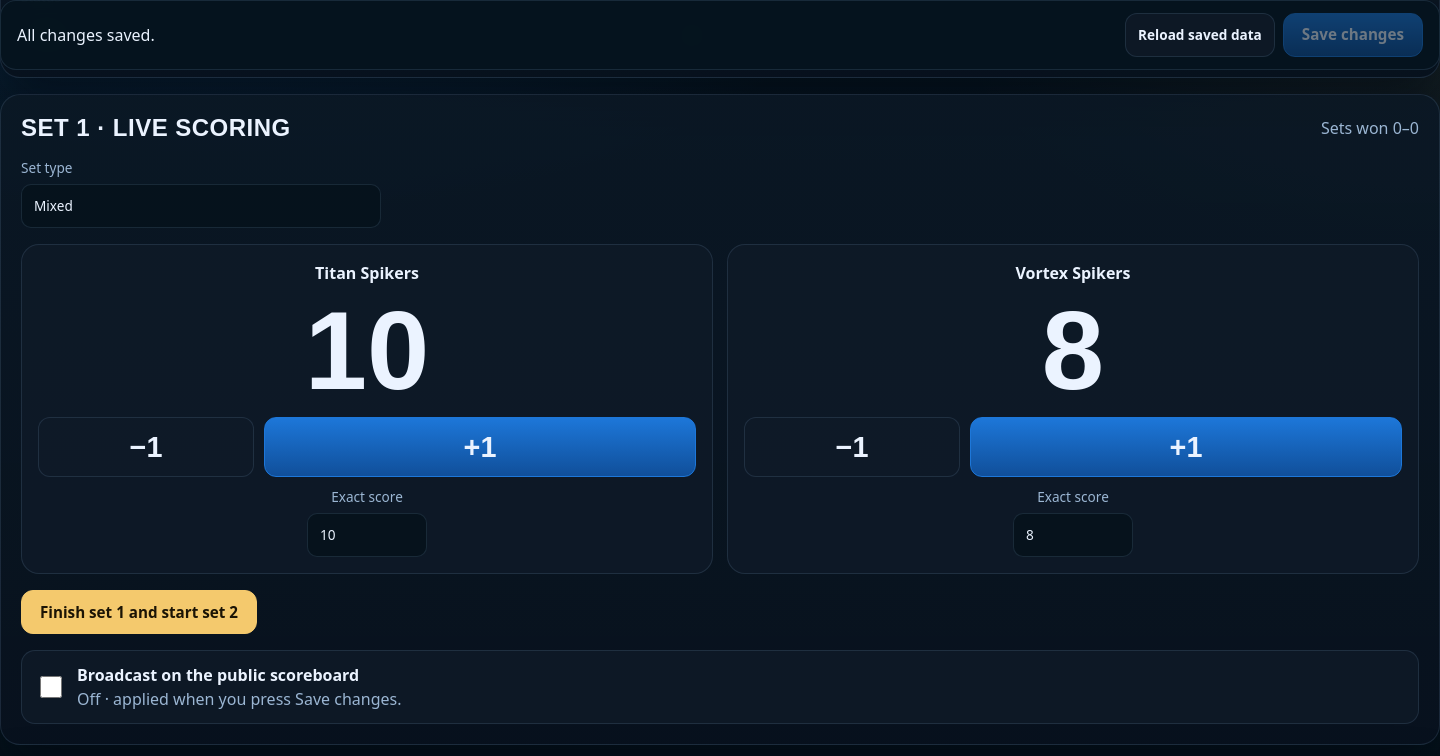
Test: match editor: drafts stay private until saved › saves with the version it was based on, then shows the saved state
The image size is (1440, 756).
(page scrolled)
Click the button named "add a point to titan spikers": (480,447) left=264, top=417, right=696, bottom=477
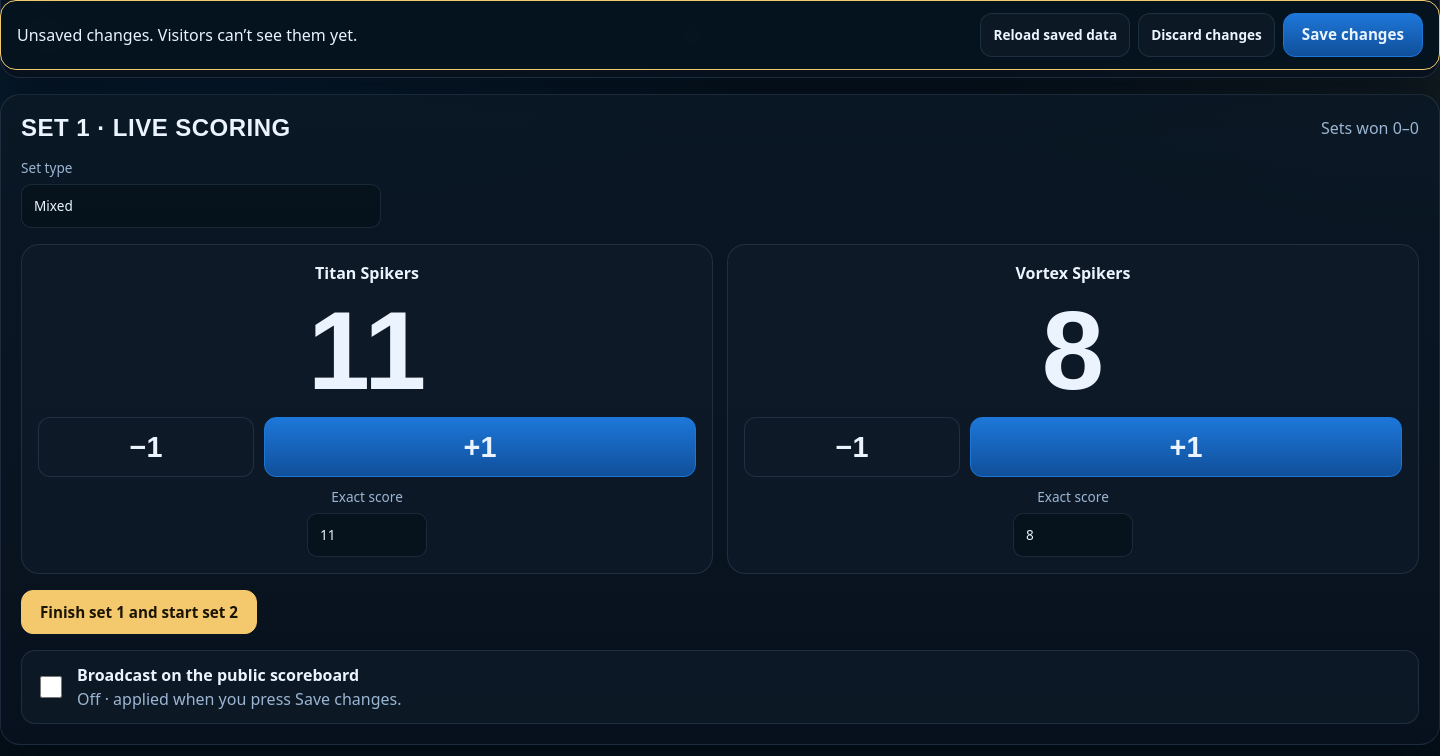
Click the button "Save changes": (1353,35) left=1283, top=13, right=1423, bottom=57
(page scrolled)
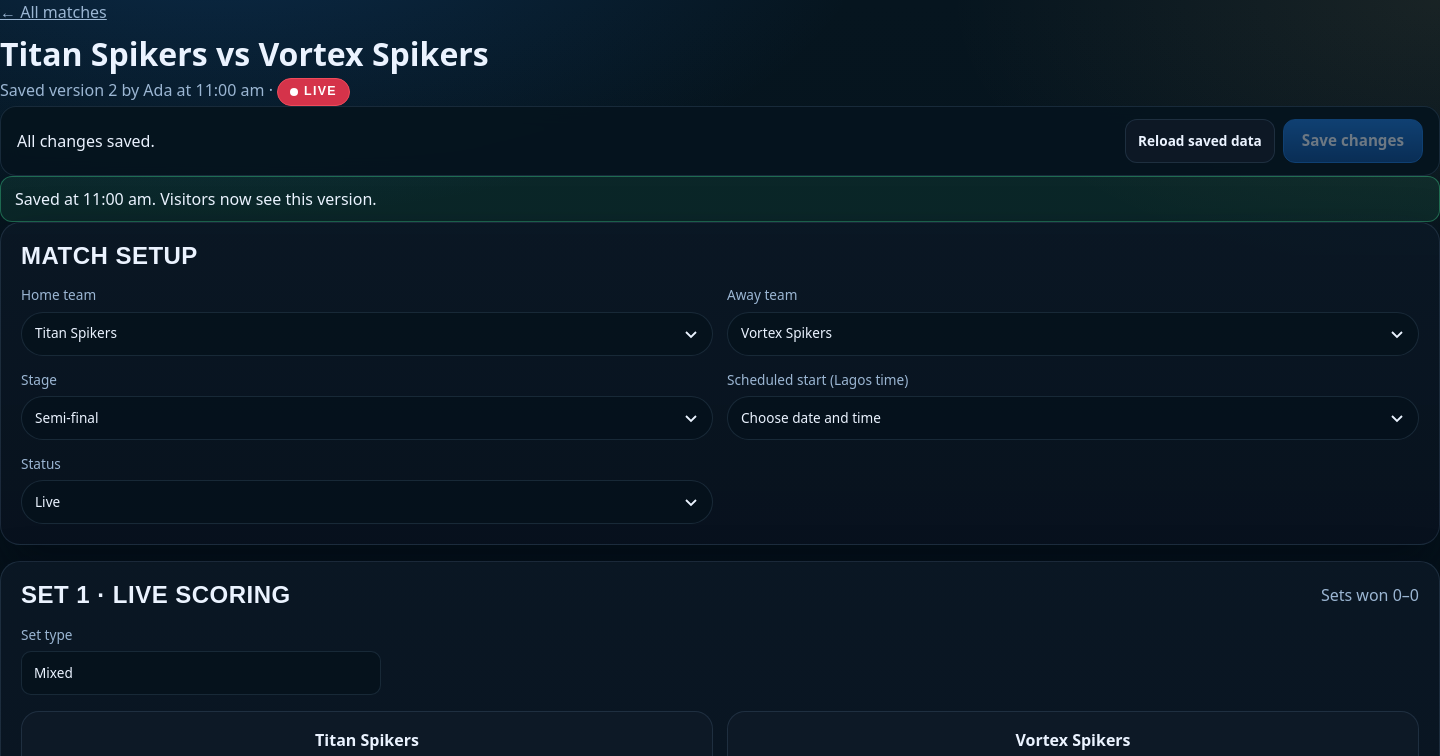
Expected: the text "Saved at 11:00 am. Visitors now see this version." is shown, left=0, top=176, right=1439, bottom=222
Expected: the text "All changes saved." is shown, left=17, top=129, right=155, bottom=153
Expected: the text "Saved version 2 by Ada at 11:00 am · live" is shown, left=0, top=78, right=350, bottom=106
